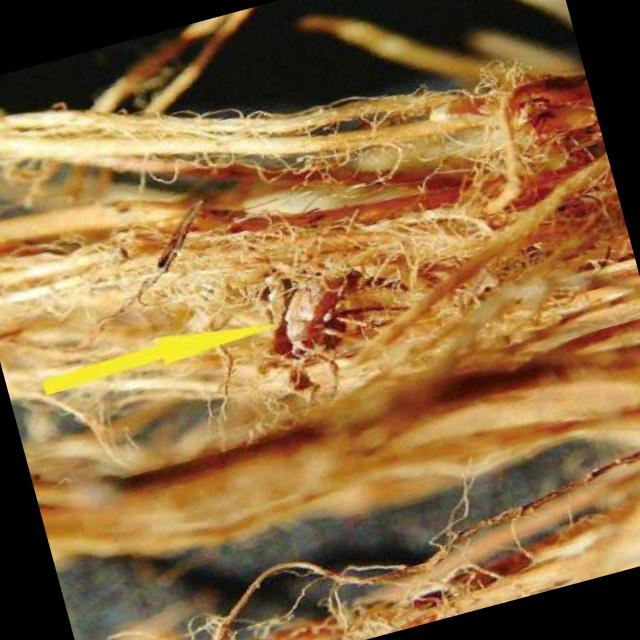rice-bug: (267, 255, 378, 374)
